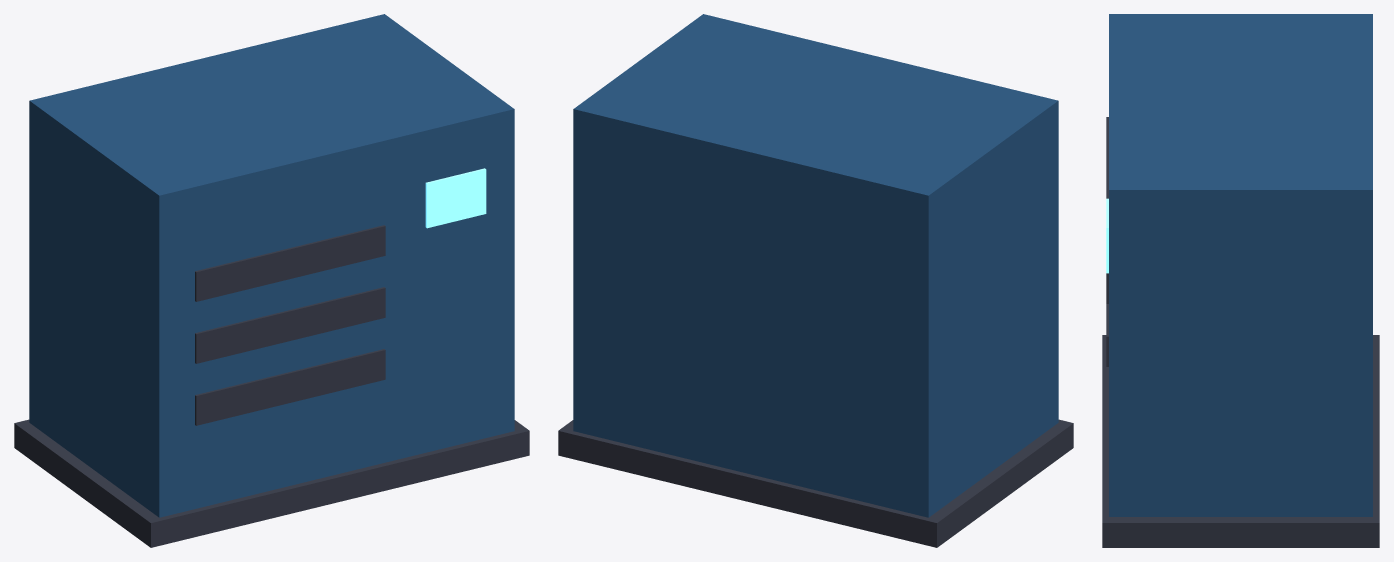
File: ind-020.glb
3 views of the same model, side by side, from view 1: azimuth 30°, elevation 25°; view 2: azimuth 150°, elevation 25°; view 3: azimuth 270°, elevation 25° (orthographic).
Parts seen in each view (by area): view 1: enclosure, skid, vent_1, vent_2, vent_3, controller; view 2: enclosure, skid; view 3: enclosure, skid.
Boxes of the visible parts, left/top/right/bottom form: enclosure: left=29, top=14, right=514, bottom=517; skid: left=14, top=419, right=529, bottom=547; vent_1: left=195, top=349, right=385, bottom=425; vent_2: left=195, top=287, right=385, bottom=363; vent_3: left=195, top=225, right=385, bottom=301; controller: left=425, top=168, right=486, bottom=228; enclosure: left=573, top=14, right=1058, bottom=517; skid: left=558, top=419, right=1073, bottom=547; enclosure: left=1109, top=14, right=1372, bottom=516; skid: left=1102, top=335, right=1379, bottom=547.
Size of the model in its own units: 1.6 by 1.4 by 1.
